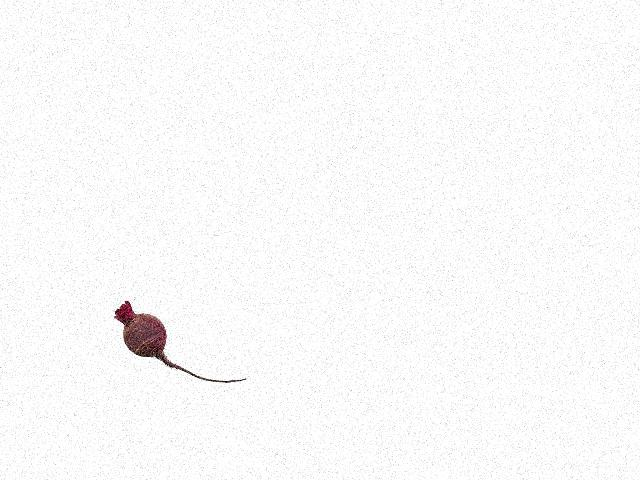beet: (114, 301, 247, 383)
